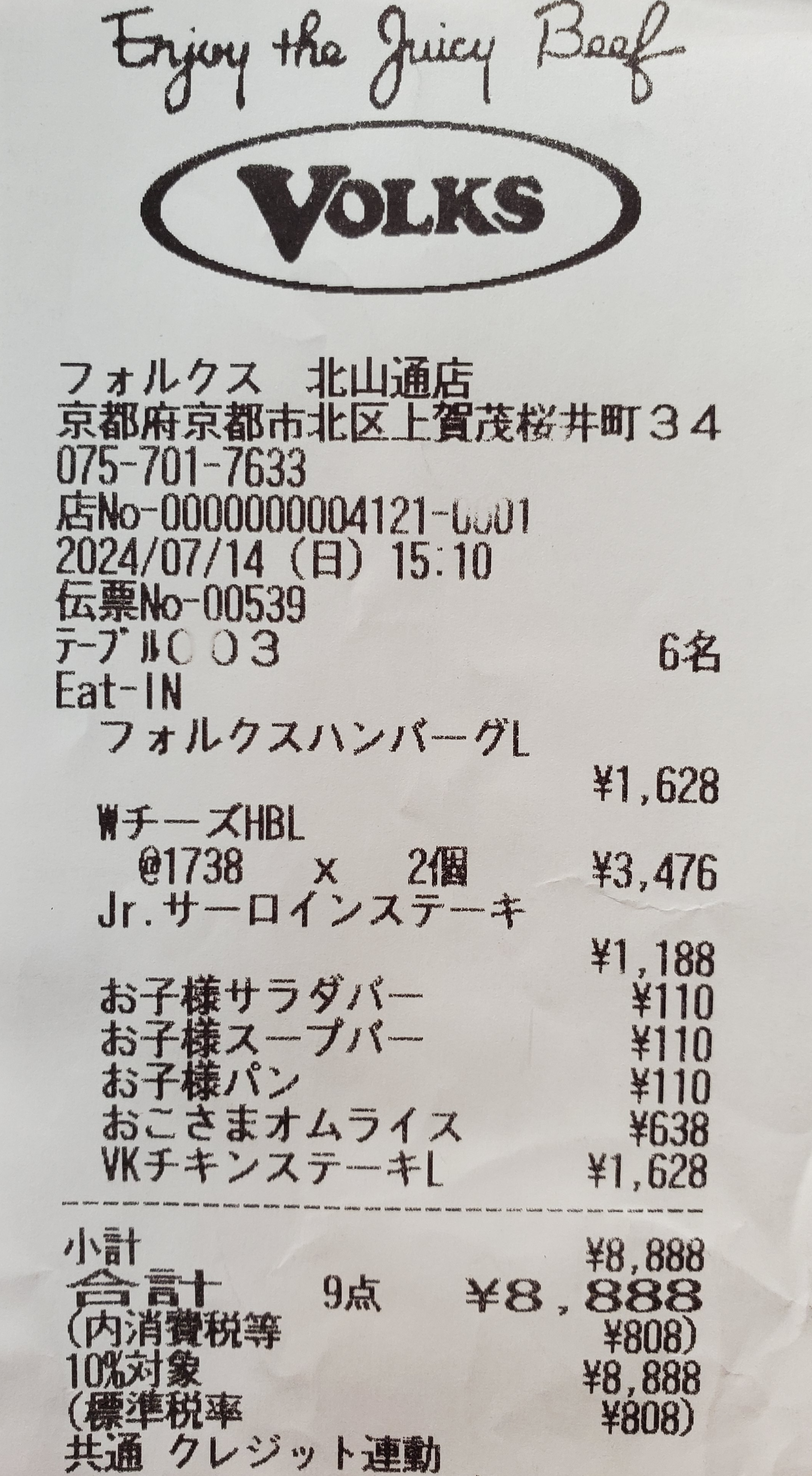Date: (51, 529, 284, 585)
Shopname: (102, 101, 708, 307)
Telnum: (40, 438, 324, 493)
Totalpay: (57, 1266, 724, 1326)
